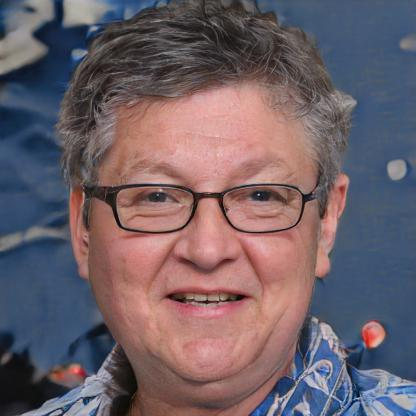glasses: (93, 176, 312, 235)
